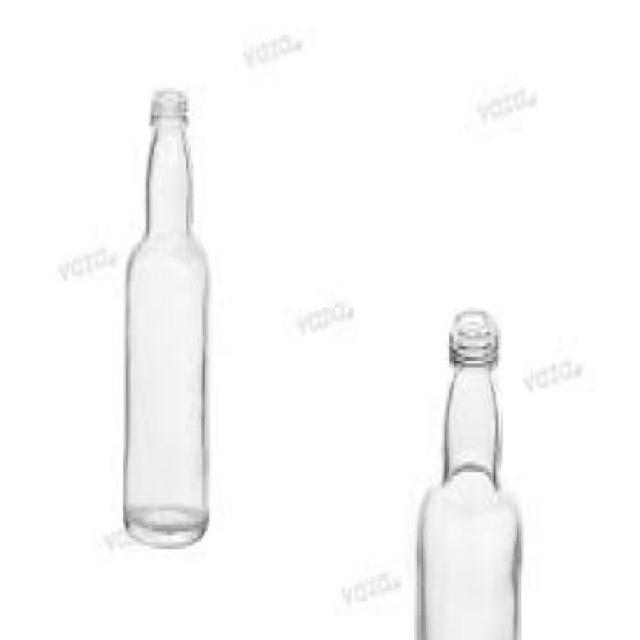kaca: (123, 88, 208, 546), (414, 308, 521, 637)
